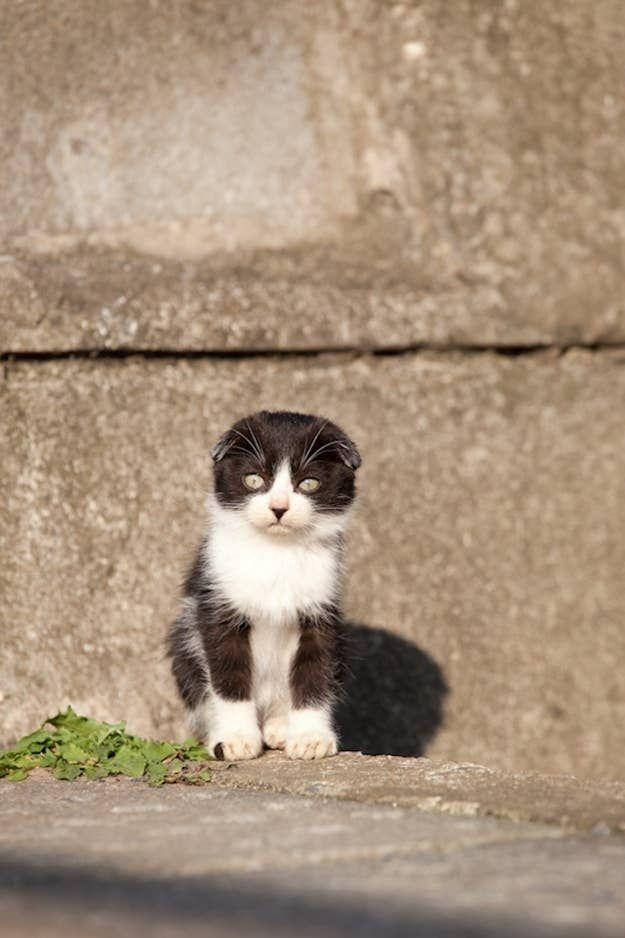kedo: (169, 412, 360, 756)
